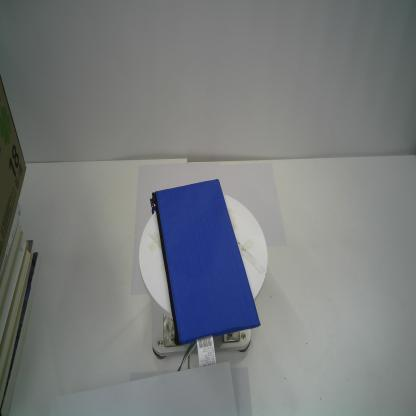Stationery: (148, 177, 263, 370)
